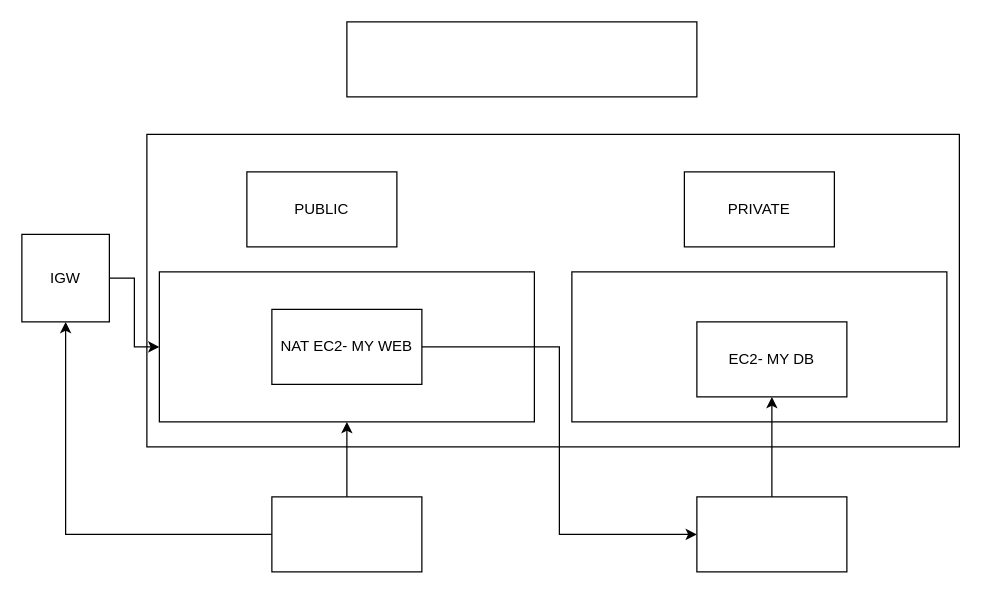
Image size: 981x594. Some labels were removed from this diagram. The box of each missing label's shape, as (x1, y1, x2, y2) in pixels:
MRTB: (271, 496, 422, 572)
MRTB-PRI: (696, 496, 847, 572)
NAT VPC ==> 50.20.0.0/16: (346, 21, 697, 97)
